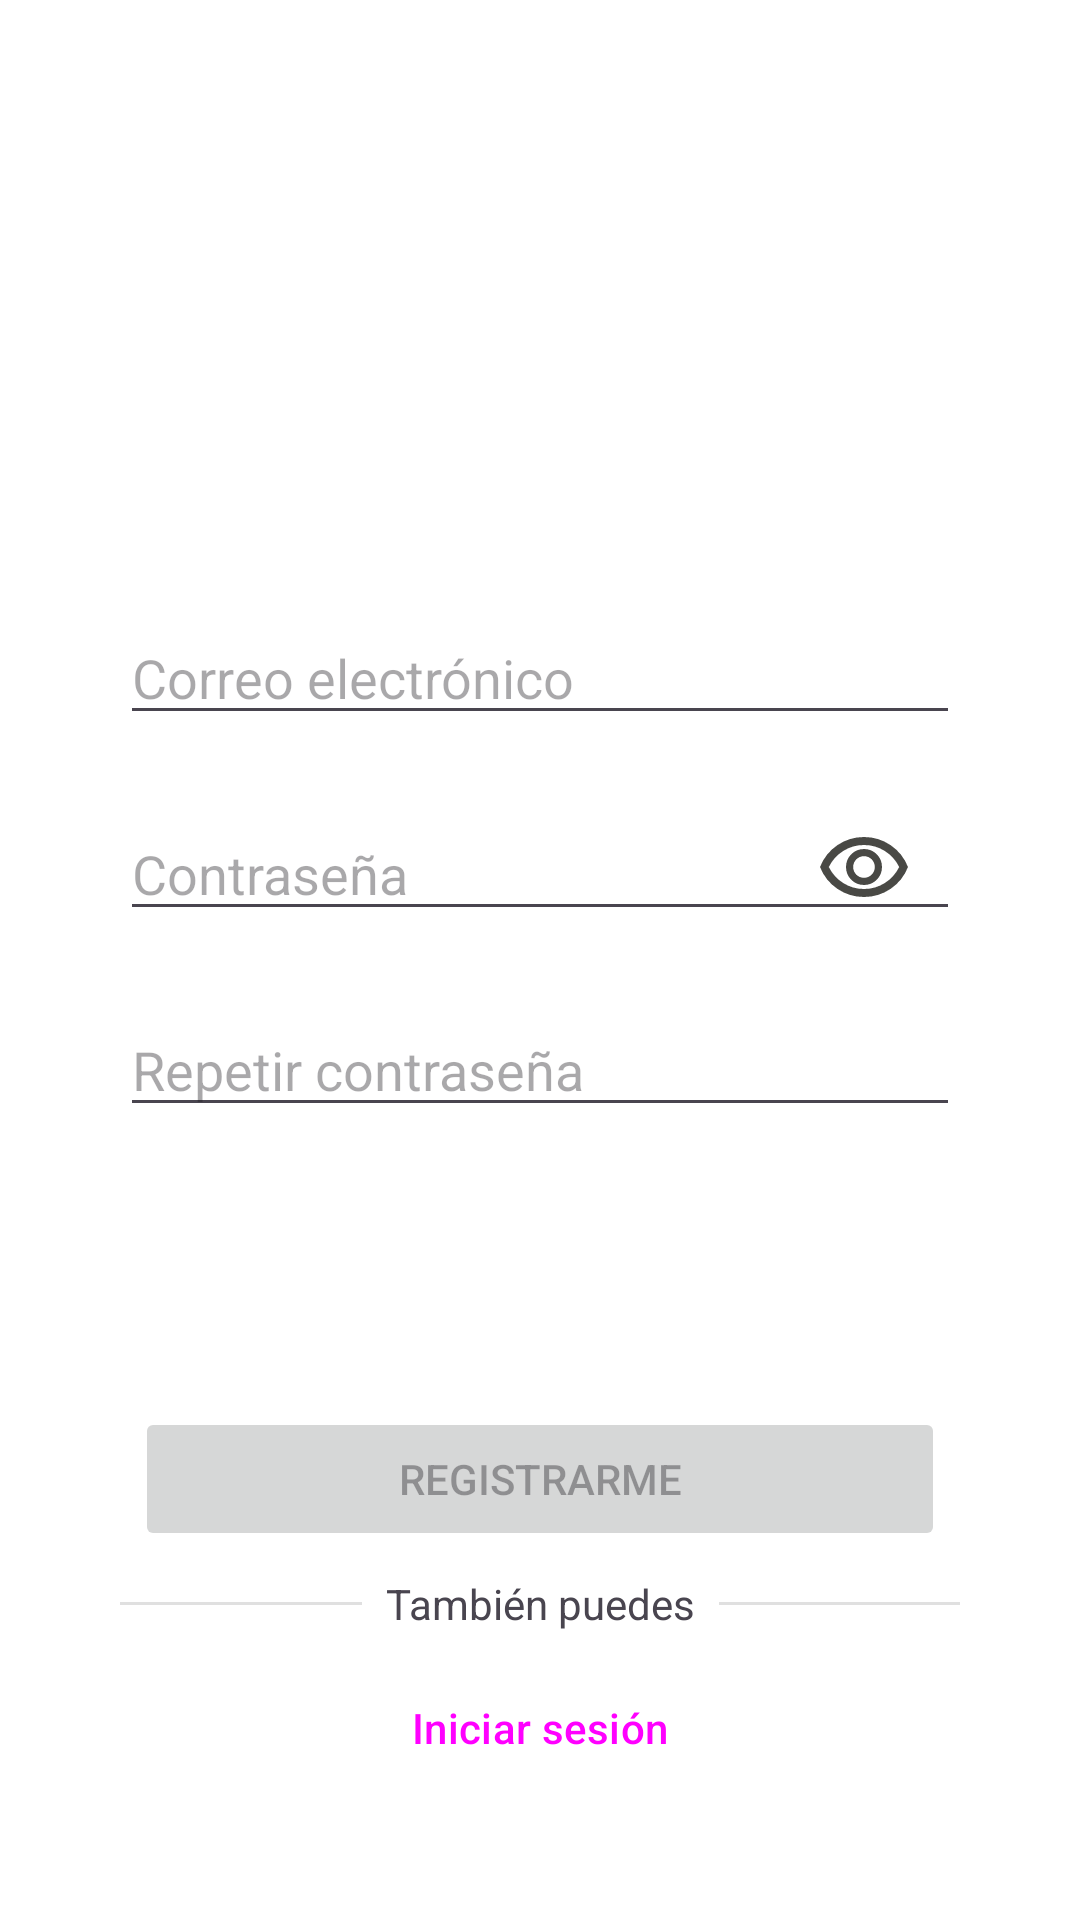

Where to tap for icons on this 1080w x 1920h app screen, as (x,y):
eye: (864,867)
